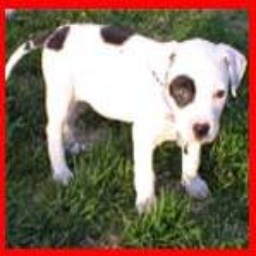dog: (5, 20, 248, 208)
